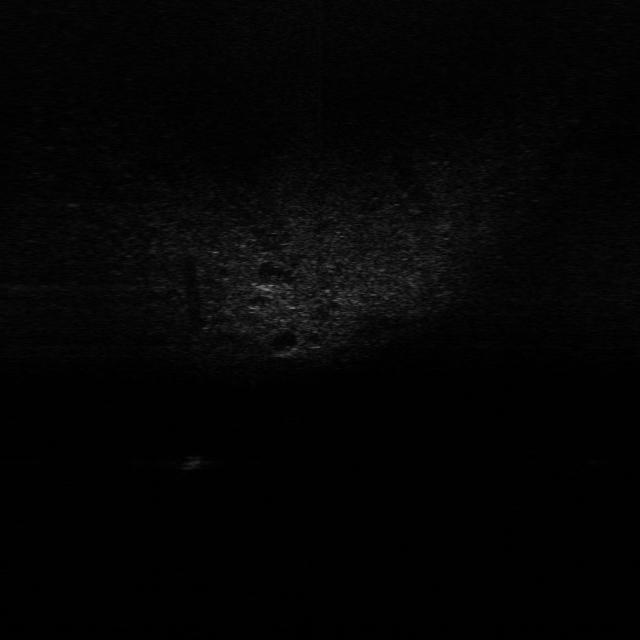cylinder: (177, 452, 209, 474)
